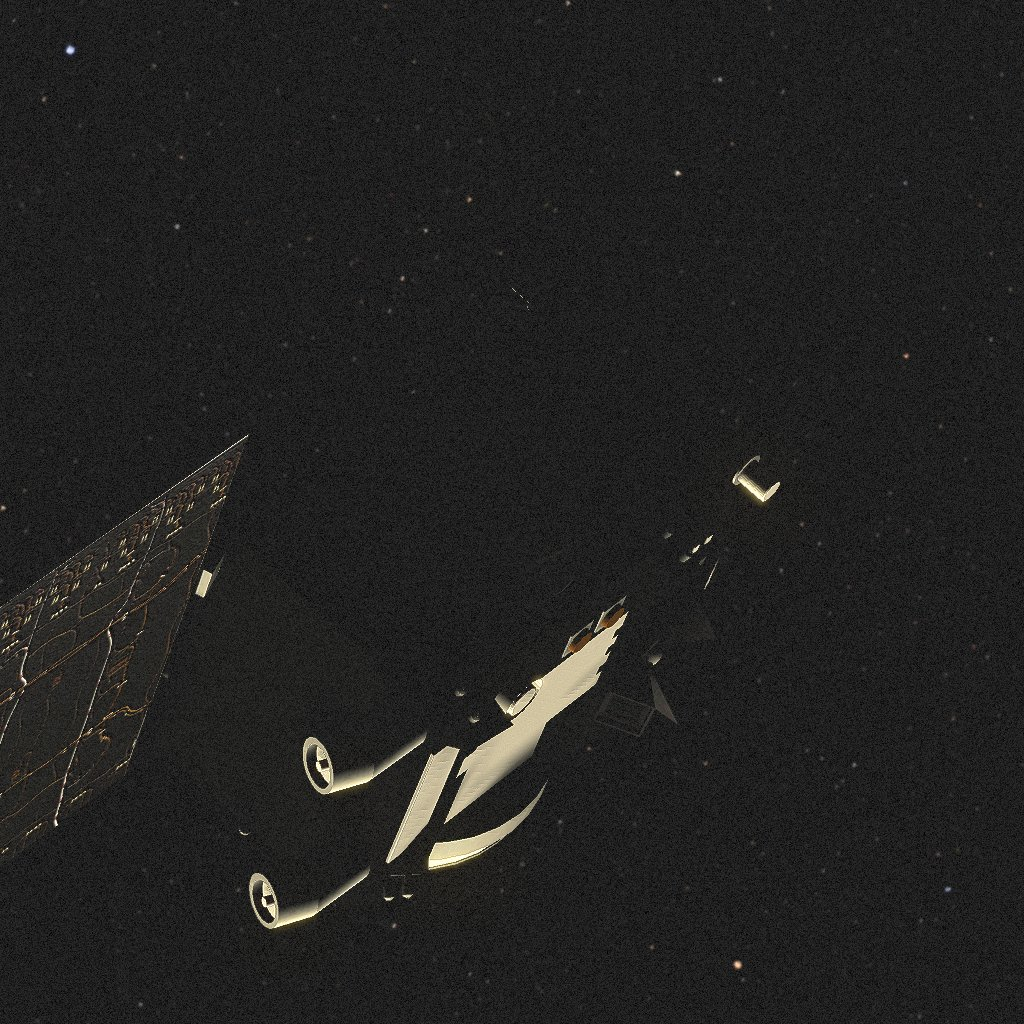proba_3_csc: (0, 264, 780, 929)
